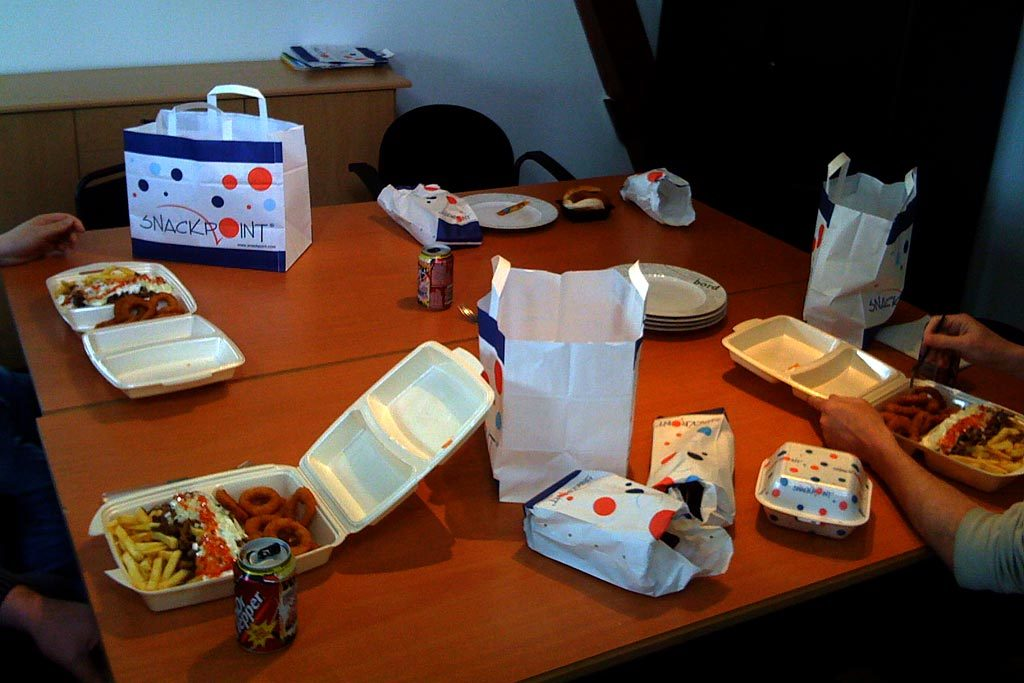French fries: (99, 496, 193, 596), (954, 422, 1022, 478)
